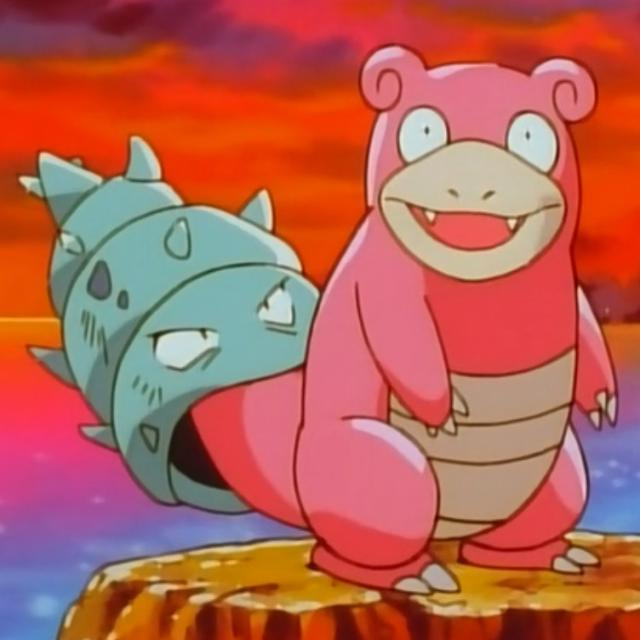Slowbro: (190, 44, 635, 563)
